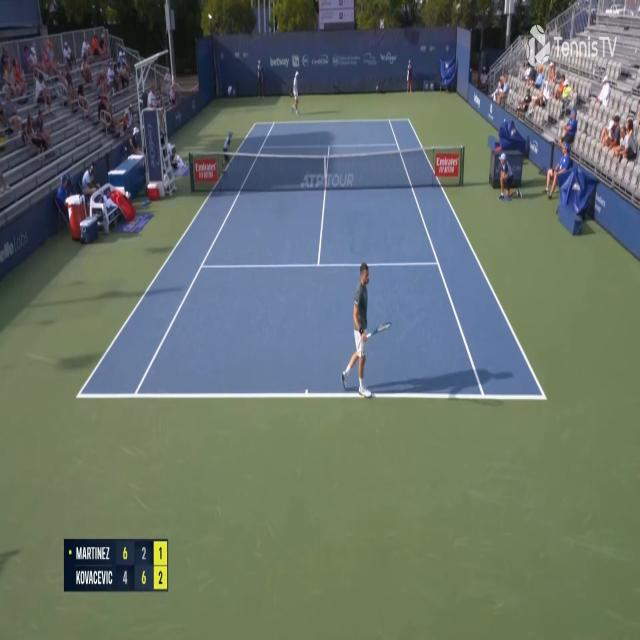tennis-player: (338, 258, 392, 402), (290, 68, 302, 116)
